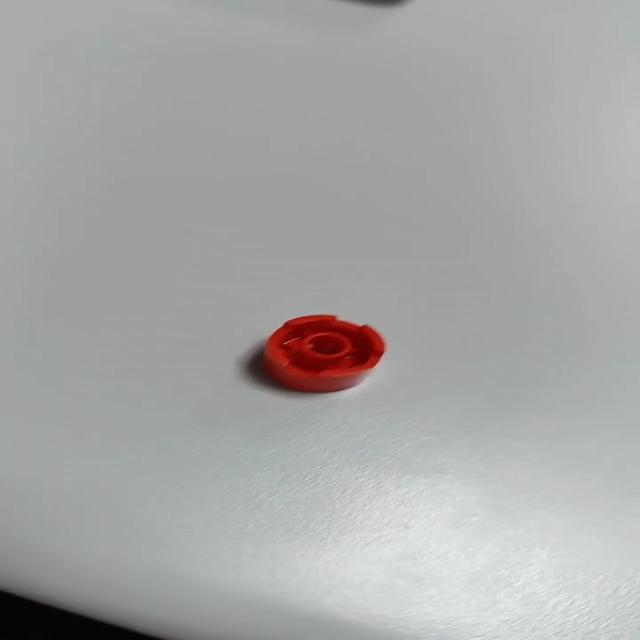S2x2x1: (257, 314, 386, 394)
